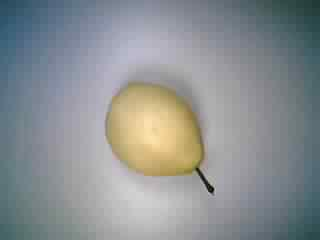pear: (99, 74, 224, 205)
